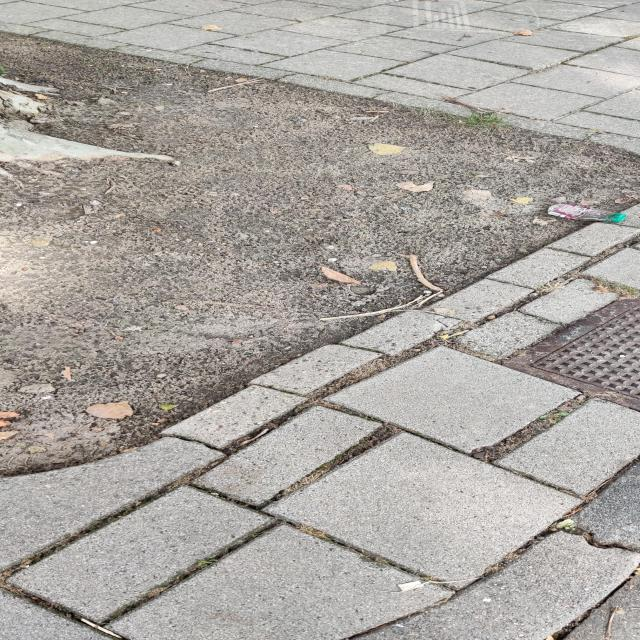litter: (533, 198, 635, 233)
